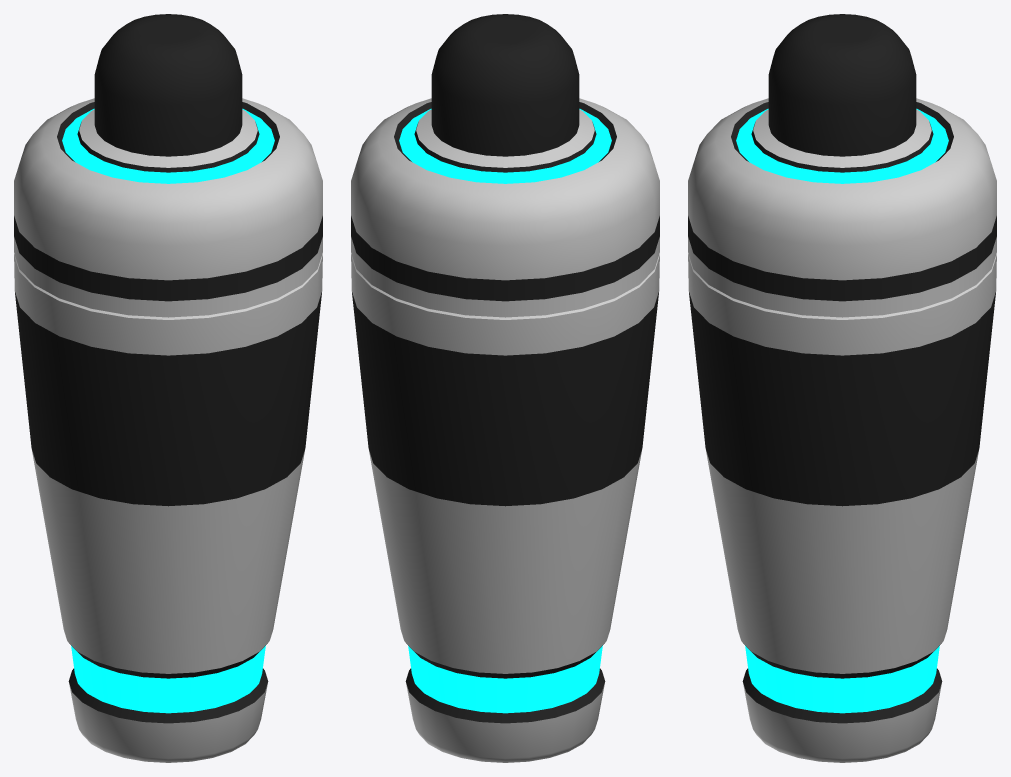
Rendered from coctelera.glb.
3 renders of one model, left to right at view 1: azimuth 30°, elevation 25°; view 2: azimuth 150°, elevation 25°; view 3: azimuth 270°, elevation 25°, orthographic.
Parts seen in each view (by area): view 1: coctelera.base, coctelera.tapa; view 2: coctelera.base, coctelera.tapa; view 3: coctelera.base, coctelera.tapa.
Boxes of the visible parts, box(x1,y1,x2,y2) form: coctelera.base: box(14, 254, 322, 762); coctelera.tapa: box(14, 14, 322, 317); coctelera.base: box(351, 254, 659, 762); coctelera.tapa: box(351, 14, 659, 317); coctelera.base: box(688, 254, 996, 762); coctelera.tapa: box(688, 14, 996, 317).
Bounding box in the file's own units: 0.08 × 0.1991 × 0.08.
